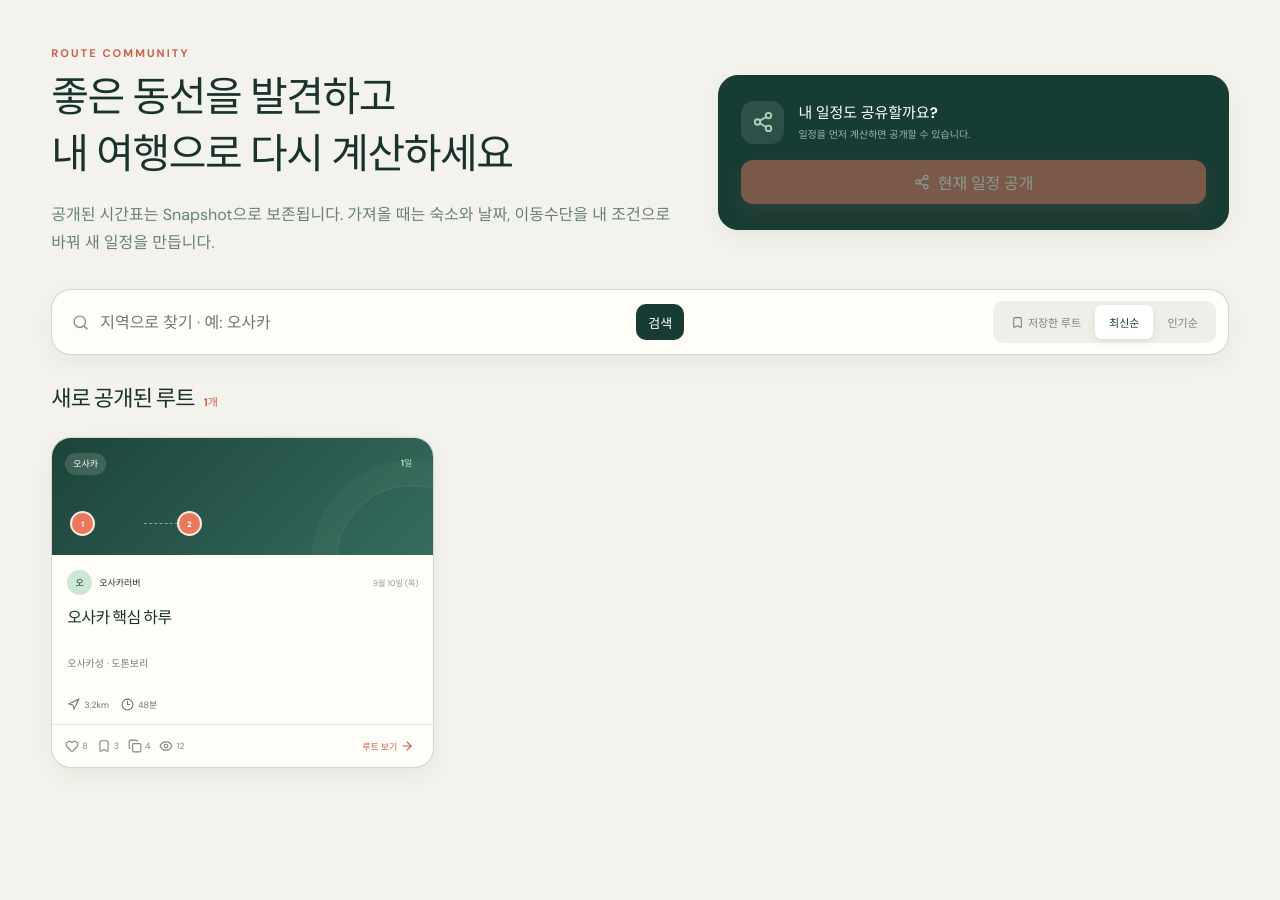
Test: CommunityWorkspace › opens the current user saved-route collection
Check: the heading "오사카 핵심 하루" is shown, box [67,606,172,628]
Click the button "저장한 루트" at (1046, 322), box [997,305,1095,339]
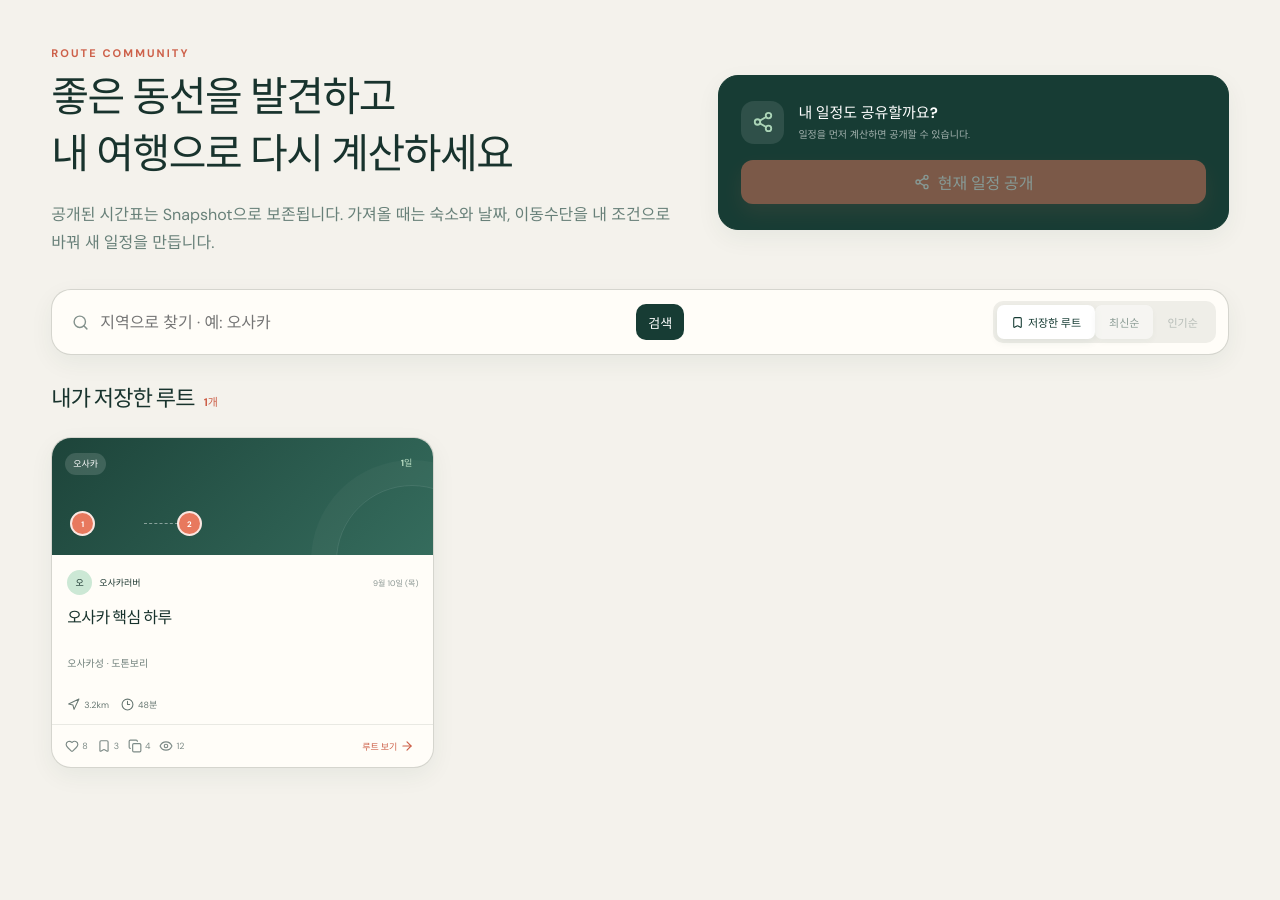
Check: the heading "내가 저장한 루트" is shown, box [51,380,195,413]
